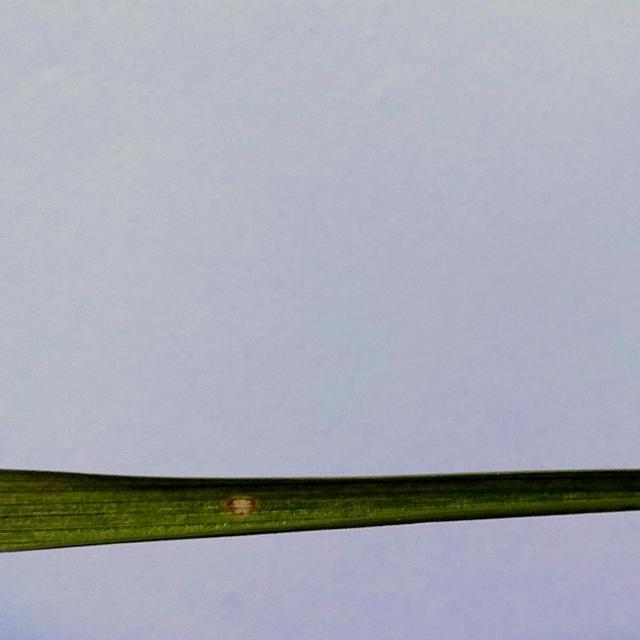Rice_Blast: (220, 492, 262, 520)
